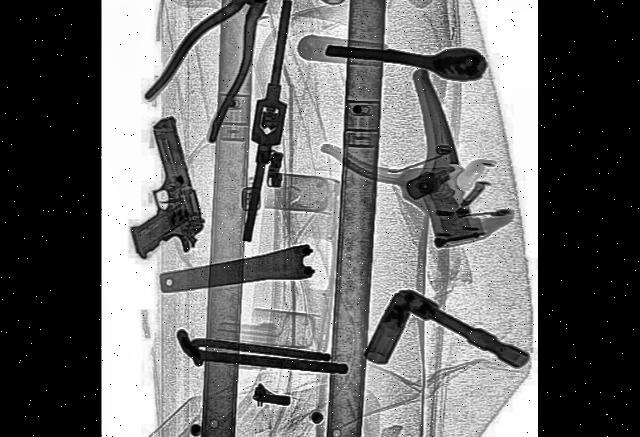Gun: (111, 108, 210, 282)
Pliers: (144, 0, 311, 173)
